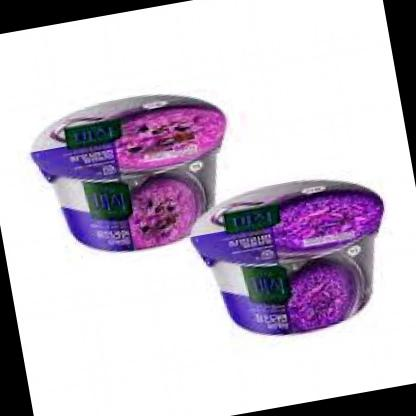Ramen: (183, 160, 412, 358), (17, 76, 239, 264)
